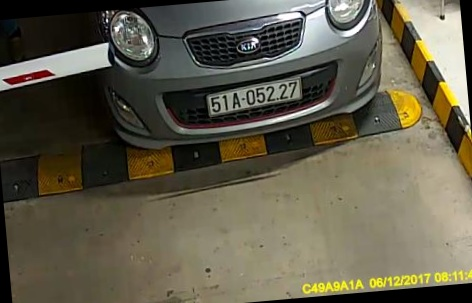plate: (207, 78, 307, 114)
